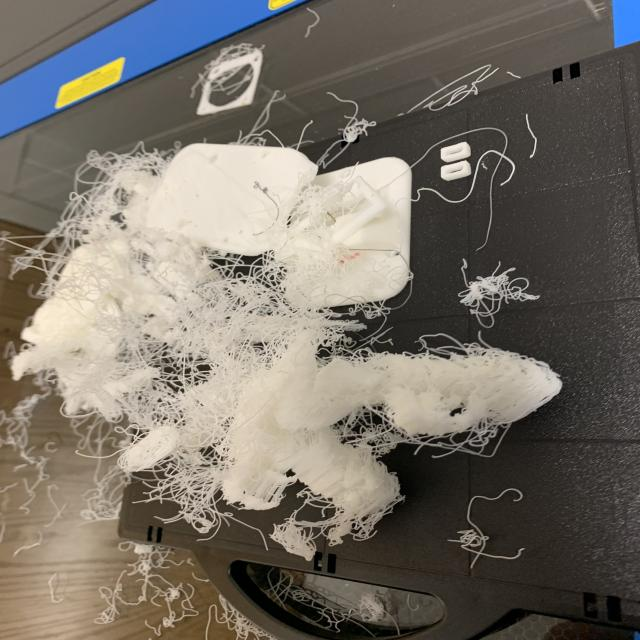spaghetti: (0, 82, 579, 571), (79, 552, 436, 640)
